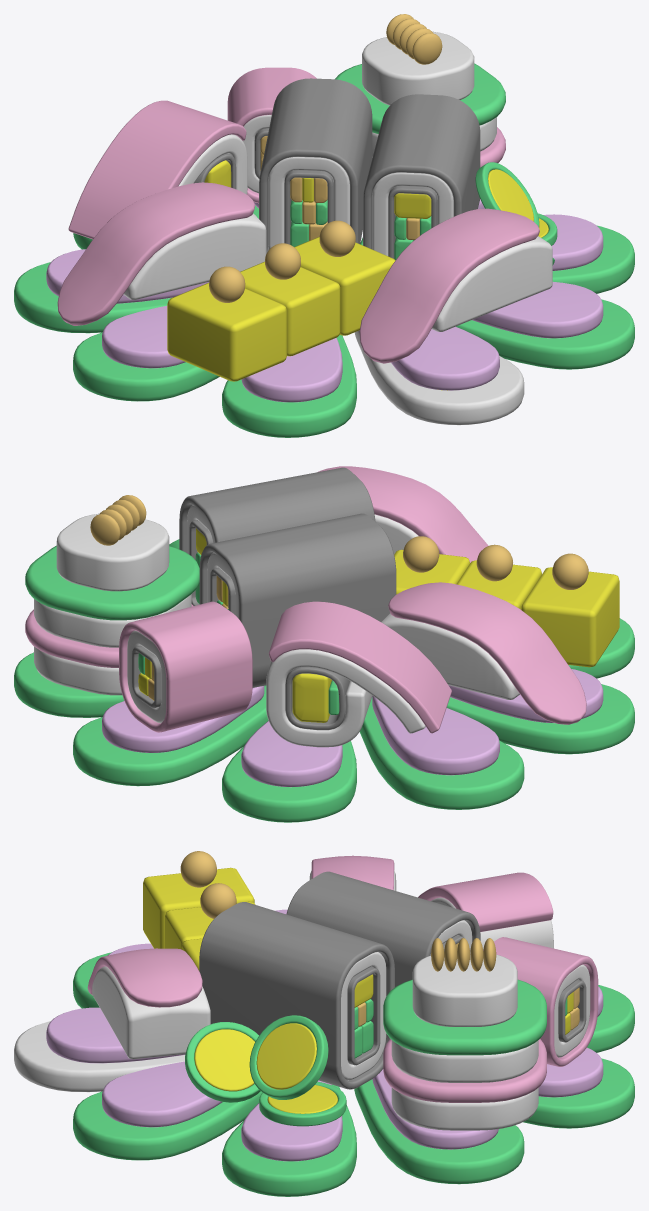
The model's file is DGLXX_sushi.fbx.
The picture shows the model from 3 angles, top to bottom: view 1: azimuth 30°, elevation 25°; view 2: azimuth 150°, elevation 25°; view 3: azimuth 270°, elevation 25°; orthographic projection.
Visible parts, largest first — view 1: polySurface65, polySurface63, polySurface57, polySurface32, polySurface3, group8_5, group9_1, pCylinder2, group8_1, pCylinder22, pCylinder15, group9_5 (+26 smaller); view 2: polySurface32, polySurface47, polySurface63, polySurface57, polySurface3, pCylinder18, polySurface55, pCylinder20, group6_6, group8_5, group9_5, pCylinder21 (+26 smaller); view 3: polySurface3, polySurface32, group6_6, pCylinder17, pCylinder15, group9_5, group8_1, pCylinder16, pCylinder24, polySurface57, polySurface65, polySurface47 (+28 smaller).
Boxes of the visible parts, x1,y1,x2,y2 form: polySurface65: [359, 208, 539, 363]; polySurface63: [57, 182, 254, 325]; polySurface57: [68, 100, 246, 239]; polySurface32: [259, 78, 372, 253]; polySurface3: [363, 94, 480, 249]; group8_5: [167, 282, 286, 381]; group9_1: [123, 213, 266, 299]; pCylinder2: [354, 330, 524, 425]; group8_1: [432, 236, 552, 331]; pCylinder22: [222, 335, 356, 437]; pCylinder15: [456, 299, 634, 369]; group9_5: [362, 31, 474, 105]; polySurface32: [199, 513, 396, 687]; polySurface47: [119, 601, 252, 732]; polySurface63: [388, 582, 586, 724]; polySurface57: [268, 601, 451, 733]; polySurface3: [179, 467, 375, 552]; pCylinder18: [73, 686, 268, 786]; polySurface55: [266, 649, 425, 747]; pCylinder20: [359, 697, 524, 809]; group6_6: [25, 545, 199, 620]; group8_5: [521, 567, 619, 667]; group9_5: [56, 513, 169, 591]; pCylinder21: [446, 684, 634, 754]; polySurface3: [199, 902, 394, 1089]; polySurface32: [286, 871, 480, 986]; group6_6: [383, 979, 546, 1055]; pCylinder17: [354, 1079, 524, 1184]; pCylinder15: [73, 1091, 262, 1160]; group9_5: [412, 952, 517, 1026]; group8_1: [92, 966, 210, 1059]; pCylinder16: [222, 1084, 356, 1196]; pCylinder24: [102, 1061, 222, 1127]; polySurface57: [418, 872, 553, 931]; polySurface65: [87, 948, 202, 1007]; polySurface47: [483, 937, 598, 1066].
Bounding box in the file's own units: 444 × 155 × 439.
